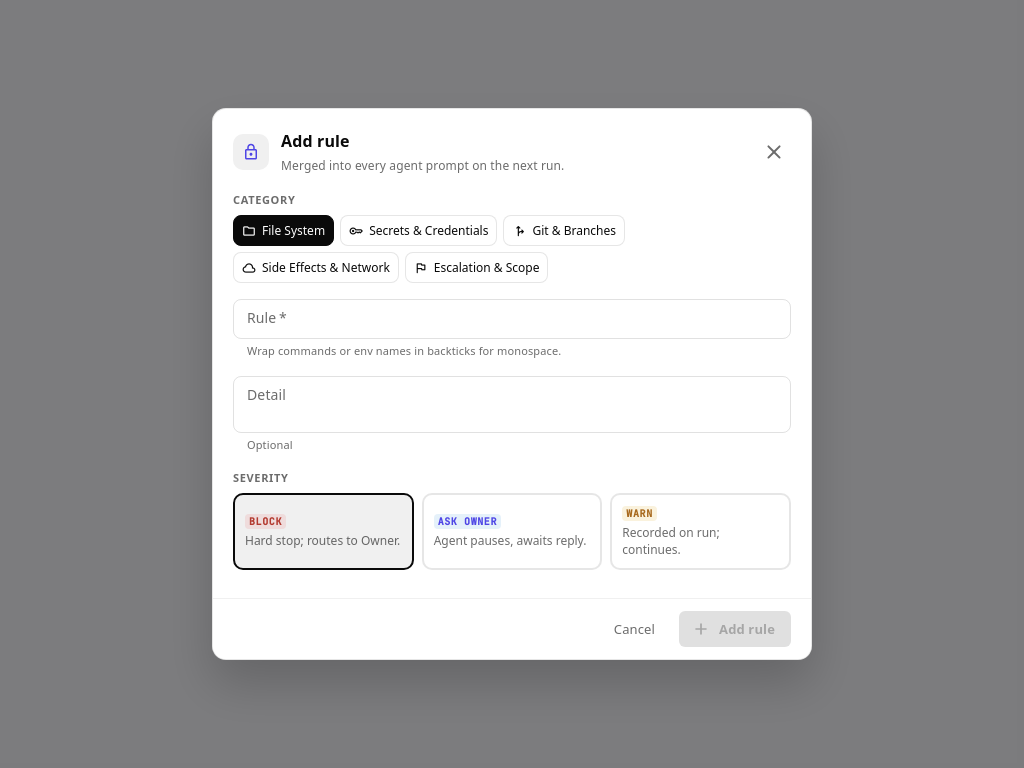
Test case: GuardrailModal — catch branches › handleSubmit with non-Error thrown shows String(err) value (false branch of instanceof)
The image size is (1024, 768).
Type "Some rule text." into the field labelled "Rule *" at (512, 319), box [233,299,791,339]
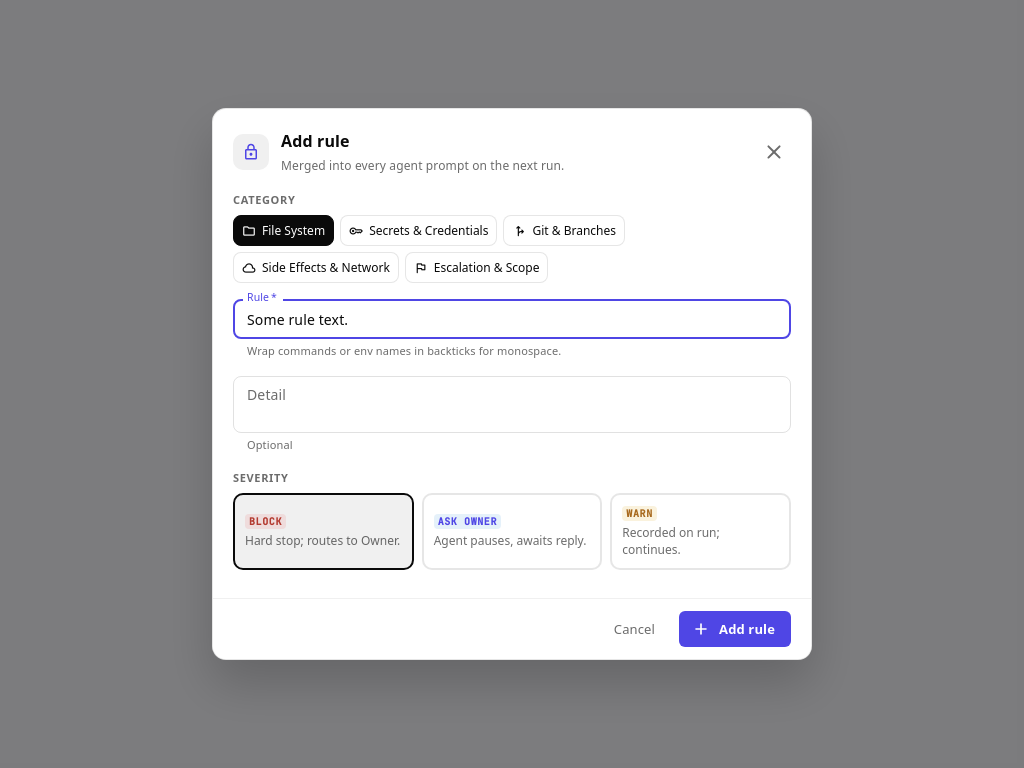
Click the button "Add rule" at (735, 630), box [679,612,791,648]
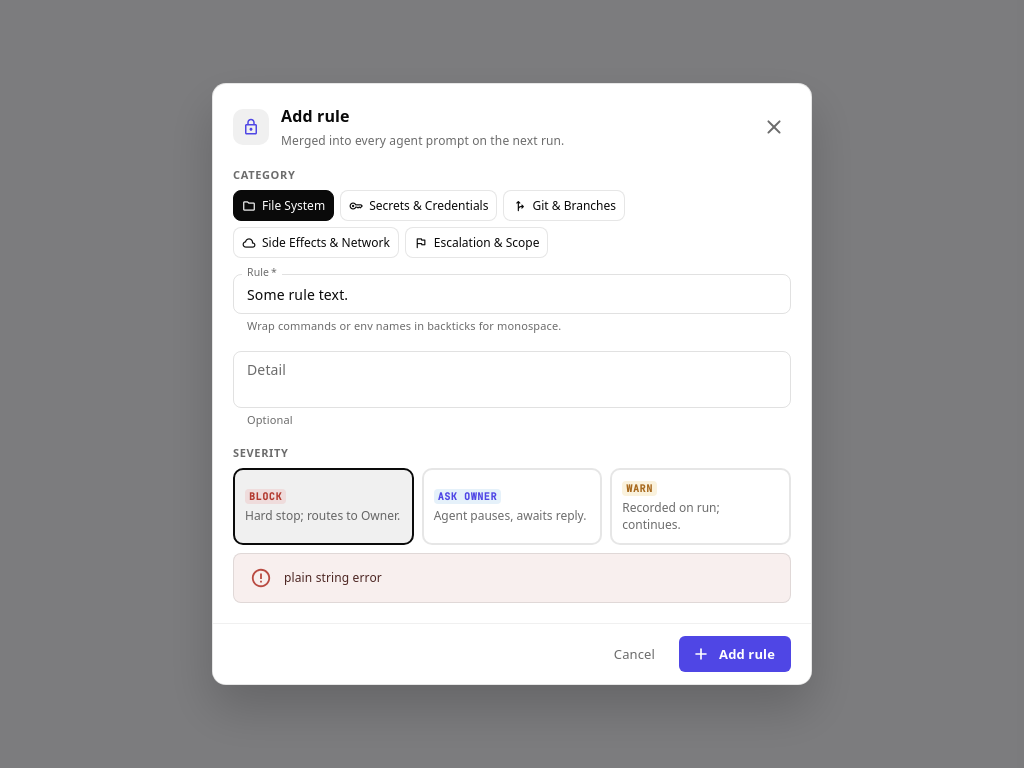
Expected: the text "plain string error" is shown, [284,570,382,586]
Expected: the message "plain string error" is shown, [233,554,791,604]
